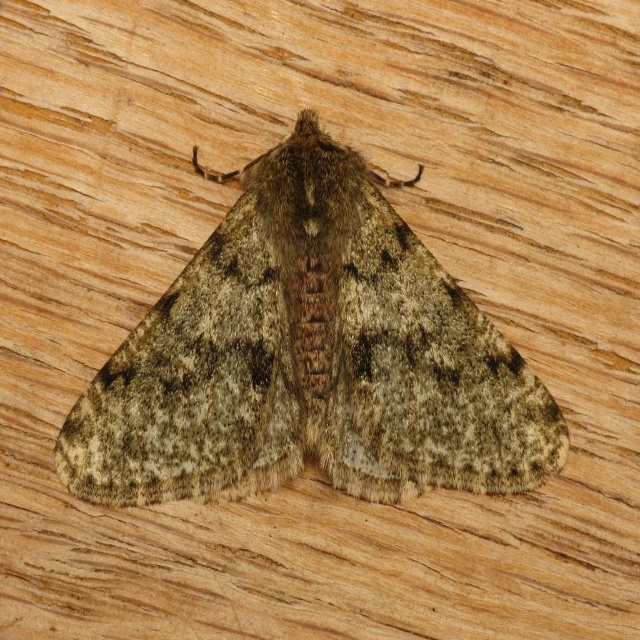Butterfly: (64, 113, 528, 514)
